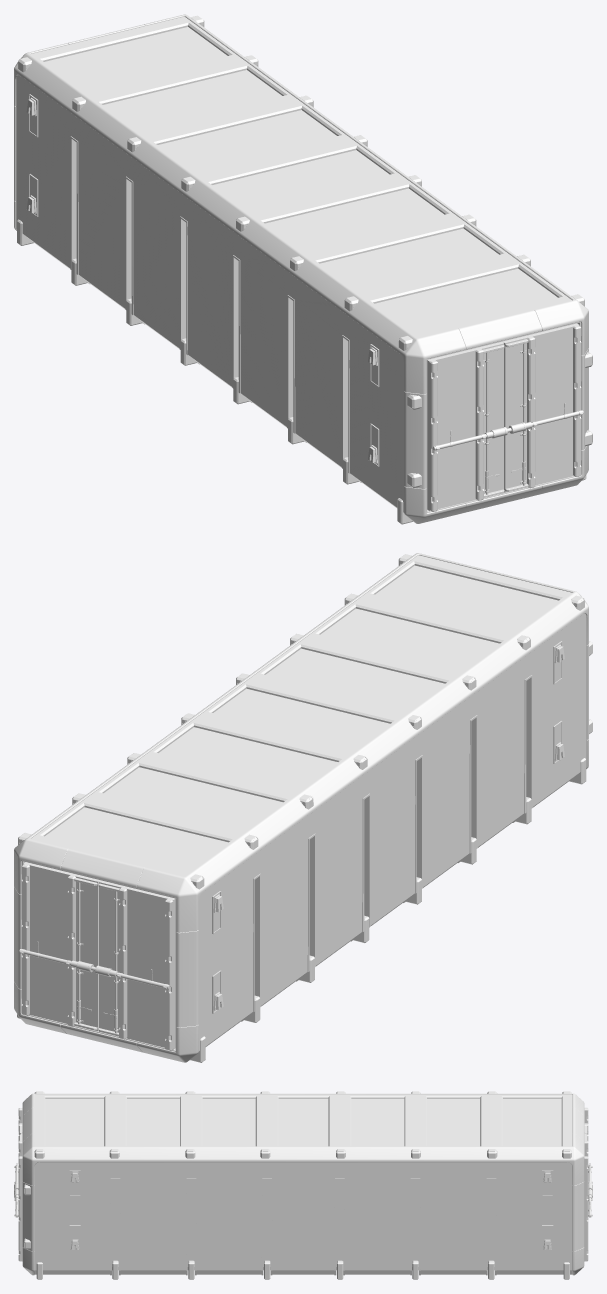
The model's file is KB3D_FTW_PropContainer_B_grp.glb.
3 views of the same model, one above another, from view 1: azimuth 30°, elevation 25°; view 2: azimuth 150°, elevation 25°; view 3: azimuth 270°, elevation 25° (orthographic). The views are drawn at different scales.
Visible parts, largest first — view 1: KB3D_FTW_PropContainer_B_Main; view 2: KB3D_FTW_PropContainer_B_Main; view 3: KB3D_FTW_PropContainer_B_Main.
Boxes of the visible parts, x1=… form: KB3D_FTW_PropContainer_B_Main: x1=14, y1=14, x2=592, y2=524; KB3D_FTW_PropContainer_B_Main: x1=14, y1=553, x2=592, y2=1062; KB3D_FTW_PropContainer_B_Main: x1=14, y1=1091, x2=592, y2=1279.
Bounding box in the file's own units: 2.99 × 2.75 × 11.26.
7 materials, 1 textured.
